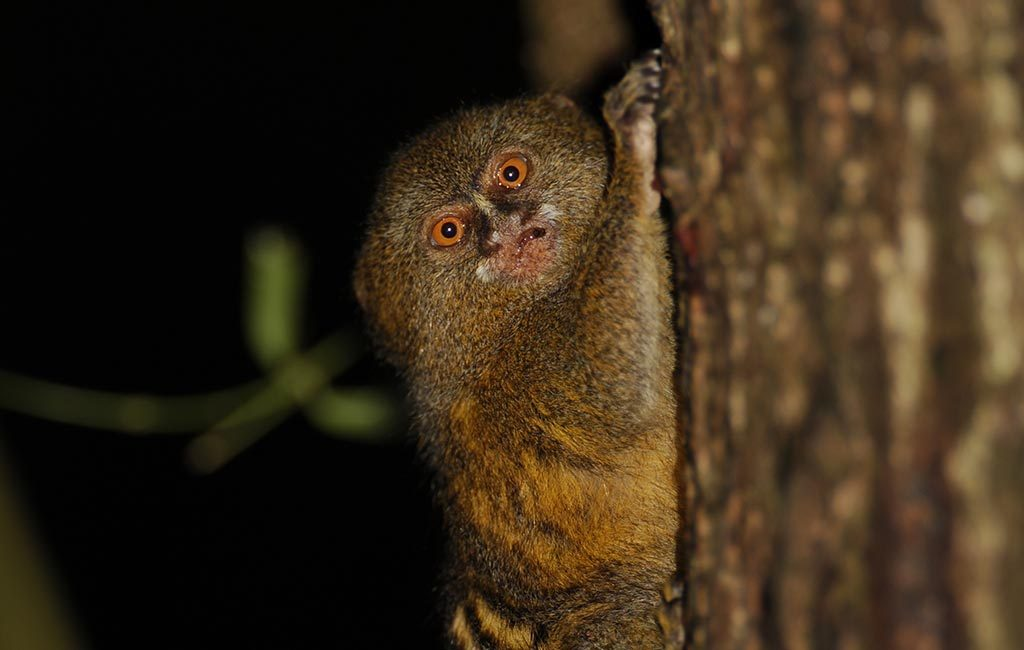PygmyMarmoset: (346, 95, 691, 643)
